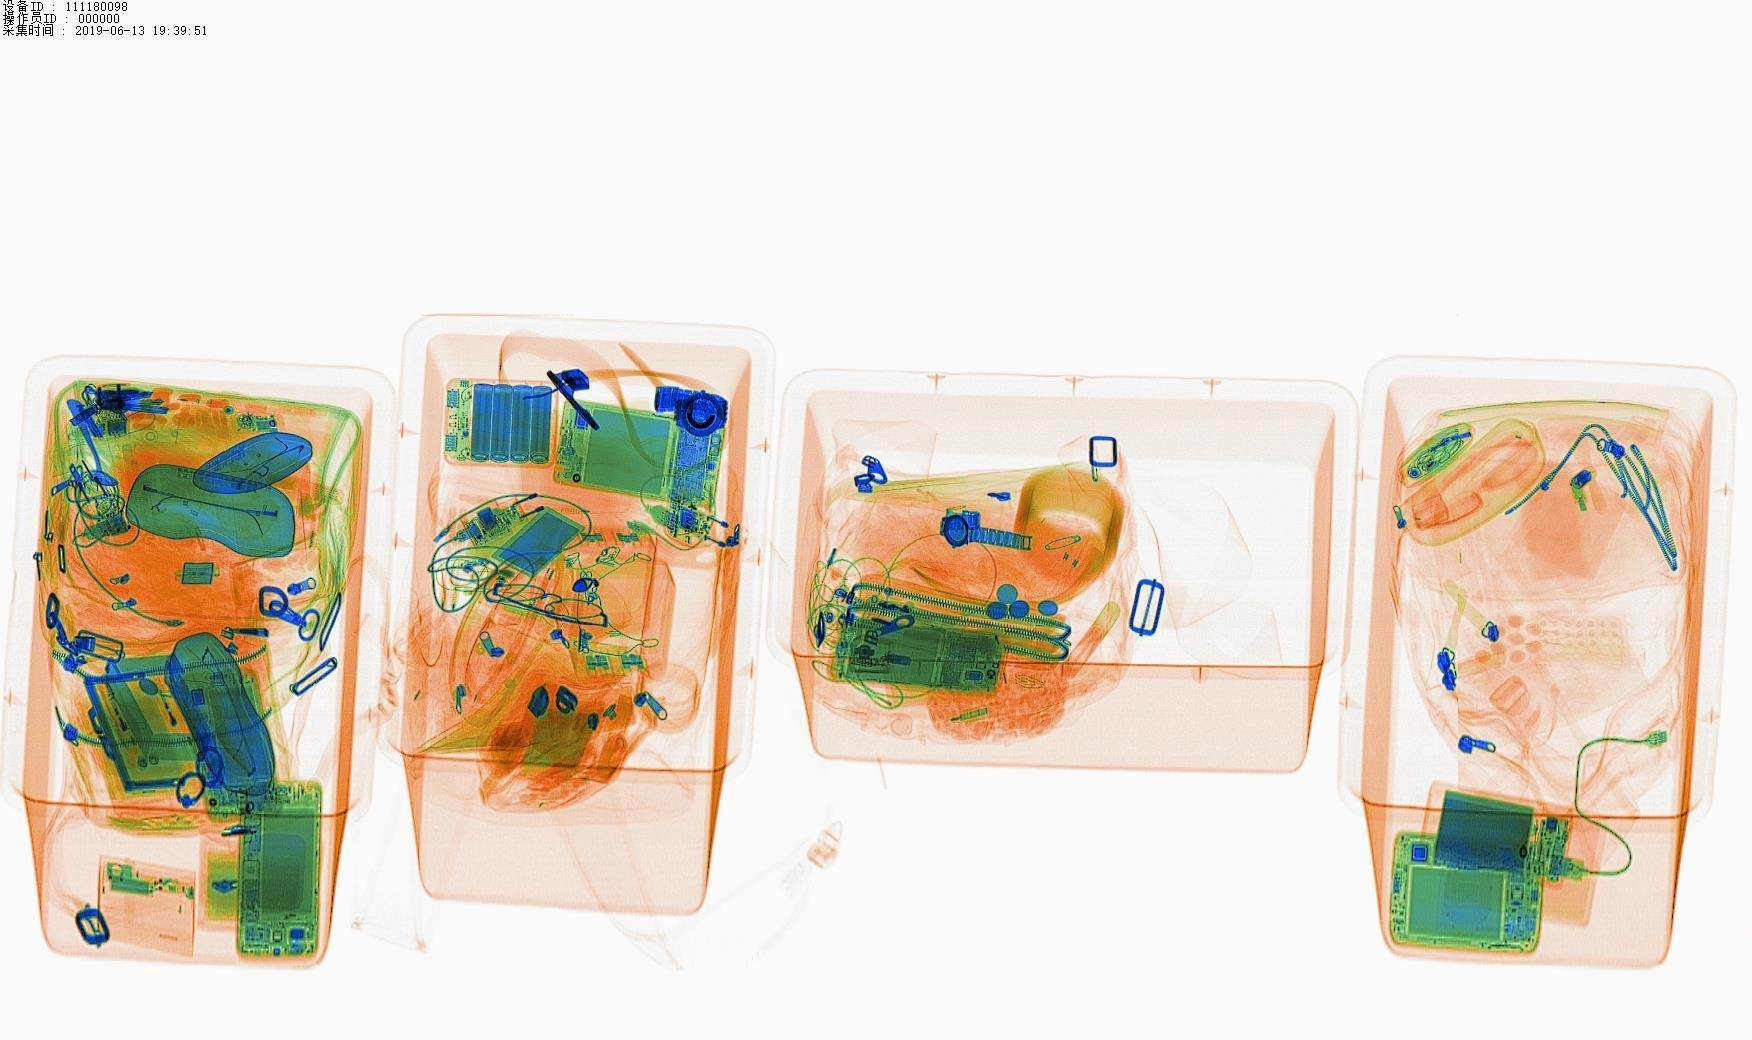NonmetallicFire: (82, 665, 161, 763), (137, 657, 207, 763)
